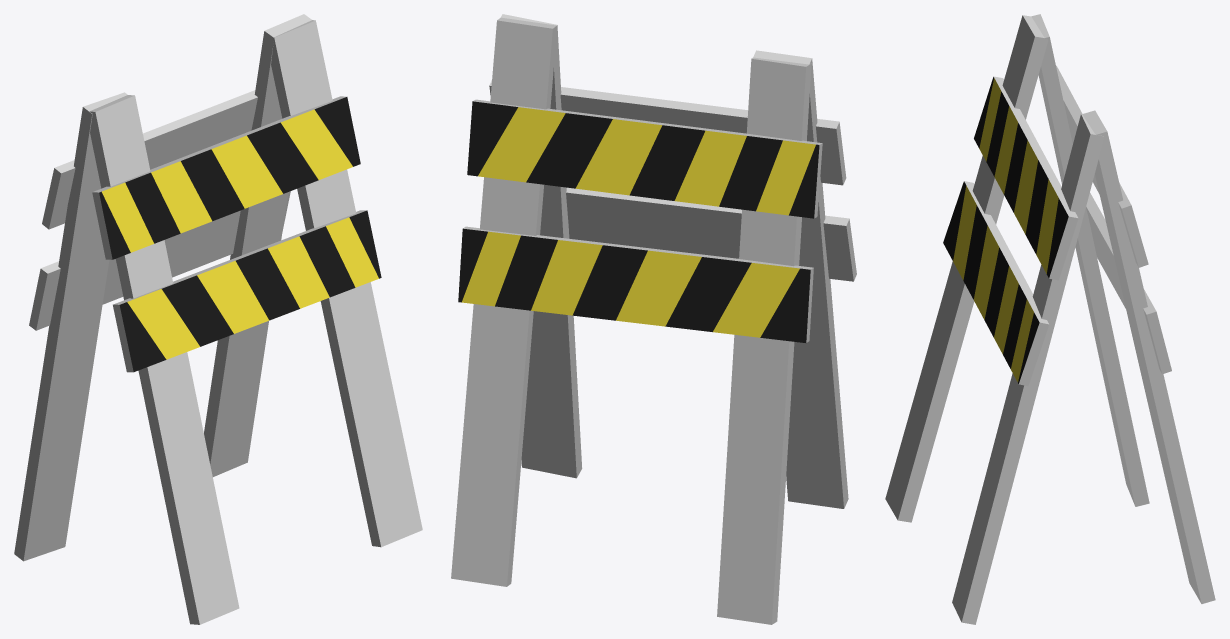
The model's file is Construction sign.glb.
3 views of the same model, side by side, from view 1: azimuth 30°, elevation 25°; view 2: azimuth 150°, elevation 25°; view 3: azimuth 270°, elevation 25° (orthographic). The views are drawn at different scales.
Visible parts, largest first — view 1: group2019904400, group56958267, group1273453722, group1899794681, group790830455, group1176710984, group1969675137, group1038710627; view 2: group1038710627, group1969675137, group1176710984, group790830455, group56958267, group1899794681, group2019904400, group1273453722; view 3: group56958267, group2019904400, group1176710984, group1899794681, group1273453722, group790830455, group1038710627, group1969675137.
Boxes of the visible parts, x1,y1,x2,y2 form: group2019904400: (271, 20, 422, 547); group56958267: (89, 95, 239, 624); group1273453722: (92, 96, 360, 259); group1899794681: (113, 210, 381, 372); group790830455: (14, 92, 127, 561); group1176710984: (204, 14, 311, 476); group1969675137: (42, 90, 257, 229); group1038710627: (29, 191, 290, 330); group1038710627: (458, 226, 813, 342); group1969675137: (467, 99, 822, 218); group1176710984: (451, 17, 556, 586); group790830455: (717, 57, 811, 624); group56958267: (753, 50, 848, 508); group1899794681: (566, 187, 856, 281); group2019904400: (501, 14, 582, 478); group1273453722: (489, 80, 846, 185); group56958267: (885, 15, 1048, 522); group2019904400: (952, 114, 1104, 624); group1176710984: (1082, 110, 1215, 603); group1899794681: (943, 181, 1049, 385); group1273453722: (974, 76, 1078, 280); group790830455: (1031, 14, 1149, 506); group1038710627: (1086, 193, 1171, 373); group1969675137: (1056, 65, 1148, 267).
Bounding box in the file's own units: 1.03 × 1.48 × 0.913.
